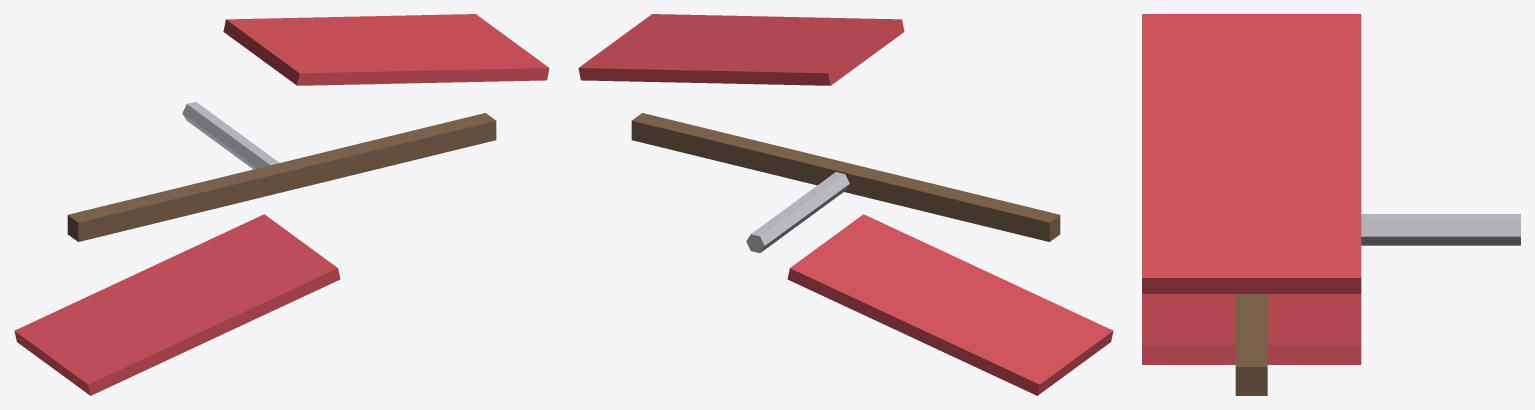
File: sky_glider.glb
The picture shows the model from 3 angles, left to right: view 1: azimuth 30°, elevation 25°; view 2: azimuth 150°, elevation 25°; view 3: azimuth 270°, elevation 25°; orthographic projection. The views are drawn at different scales.
Parts seen in each view (by area): view 1: wing_l, wing_r, spine, handle; view 2: wing_l, wing_r, spine, handle; view 3: wing_r, wing_l, handle, spine.
Part boxes in pixels (x1,y1,x2,y2): wing_l: (14,214,340,395); wing_r: (223,14,549,85); spine: (67,113,496,241); handle: (182,102,279,169); wing_l: (787,214,1113,395); wing_r: (578,14,904,85); spine: (631,113,1060,241); handle: (746,172,849,252); wing_r: (1142,14,1361,293); wing_l: (1142,294,1361,364); handle: (1361,214,1520,245); spine: (1235,294,1267,395).
Bounding box in the file's own units: 1.99 × 1.12 × 0.95.
